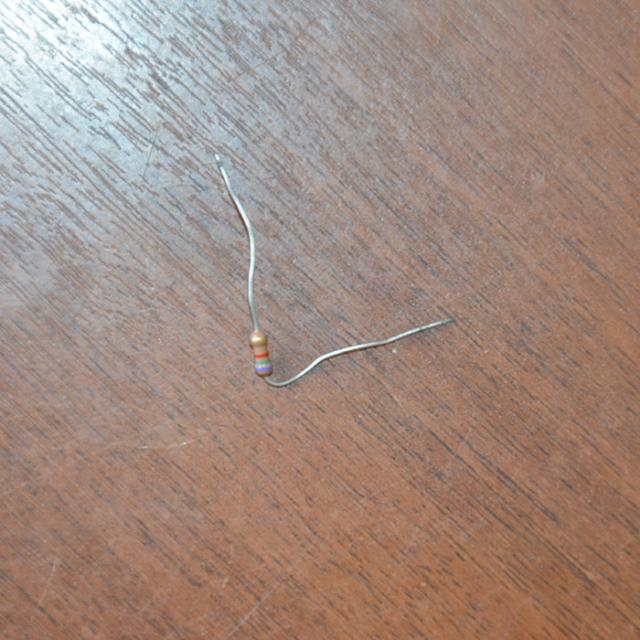gold: (250, 337, 266, 345)
green: (255, 360, 270, 365)
red: (254, 352, 268, 358)
resistor: (239, 319, 278, 378)
violet: (256, 367, 273, 371)
